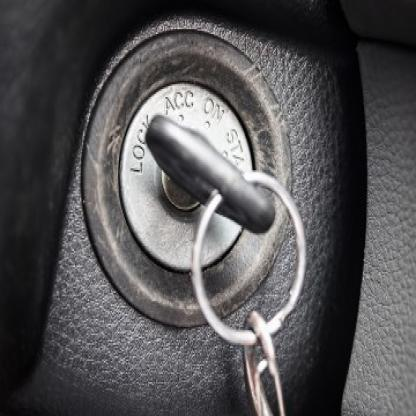keys: (141, 98, 278, 240)
